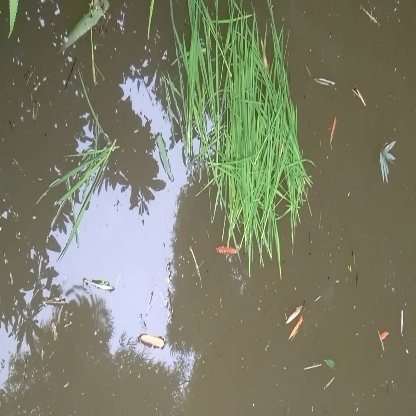grass: (176, 7, 316, 272)
